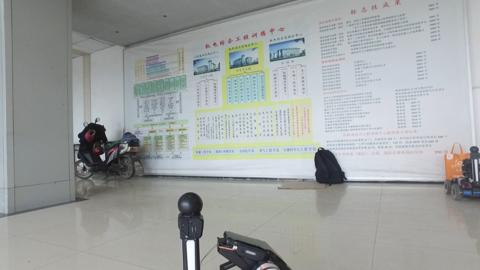bag: (312, 145, 347, 187), (442, 143, 472, 183)
chariot: (443, 145, 480, 201)
